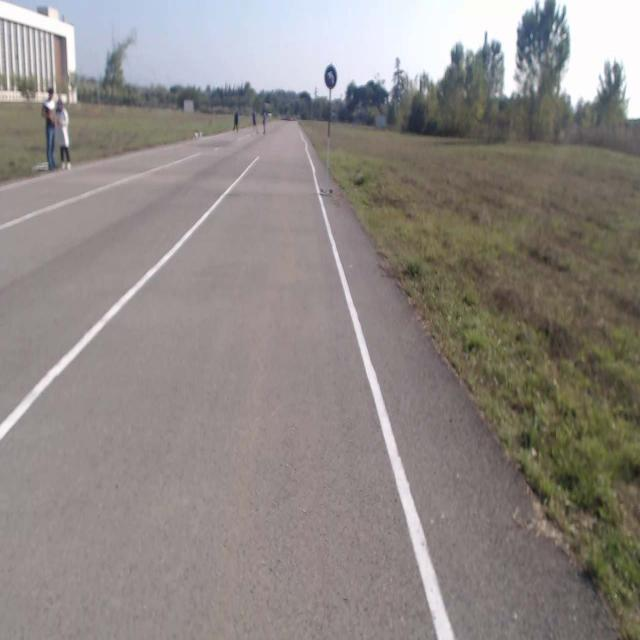sol: (324, 64, 338, 88)
